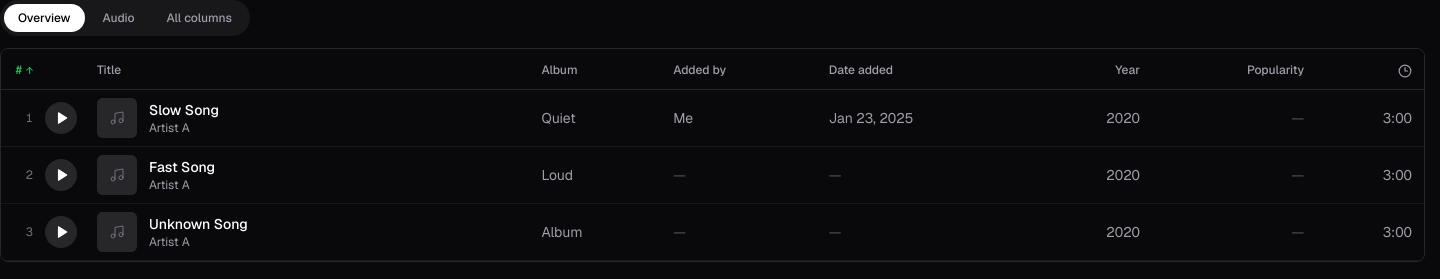
Test: TrackTable › plays a preview on demand and marks tracks without one
This screenshot has width=1440, height=279.
Click the button named "Play preview" in the row of "Quiet" at (61, 118), box [45,102,77,134]
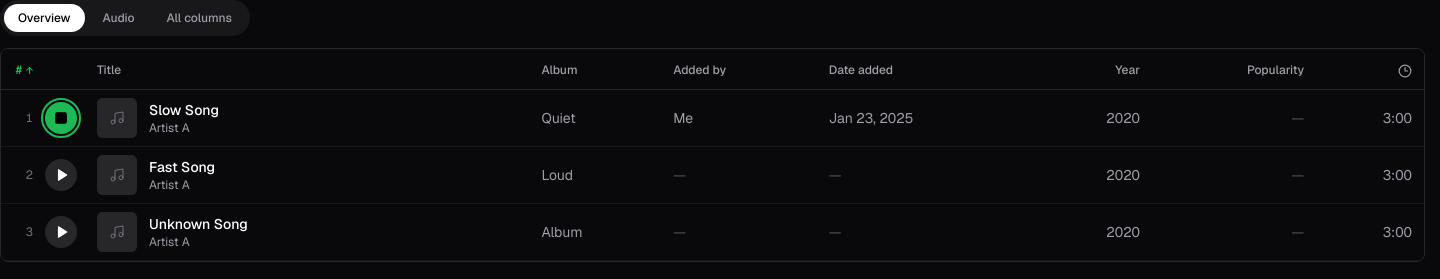
Expected: the button named "Stop preview" is shown, [45,102,77,134]
Click the button named "Play preview" in the row of "Loud" at (61, 175), box [45,159,77,191]
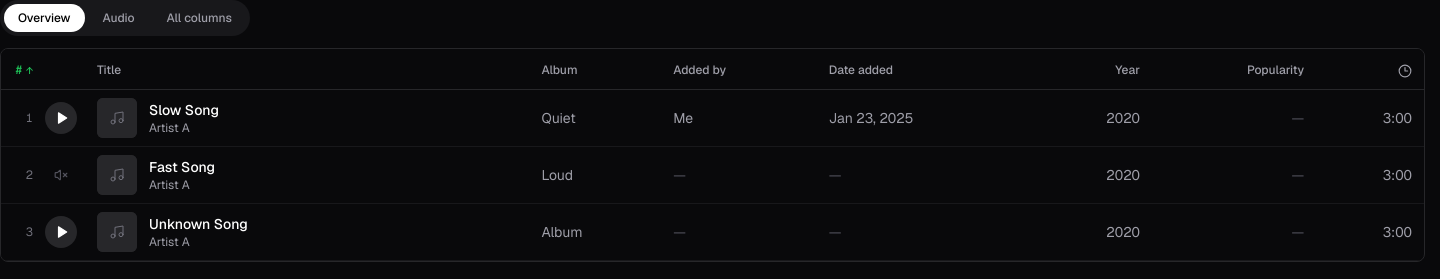
Expected: the button named "No preview available" is disabled, [45,159,77,191]
